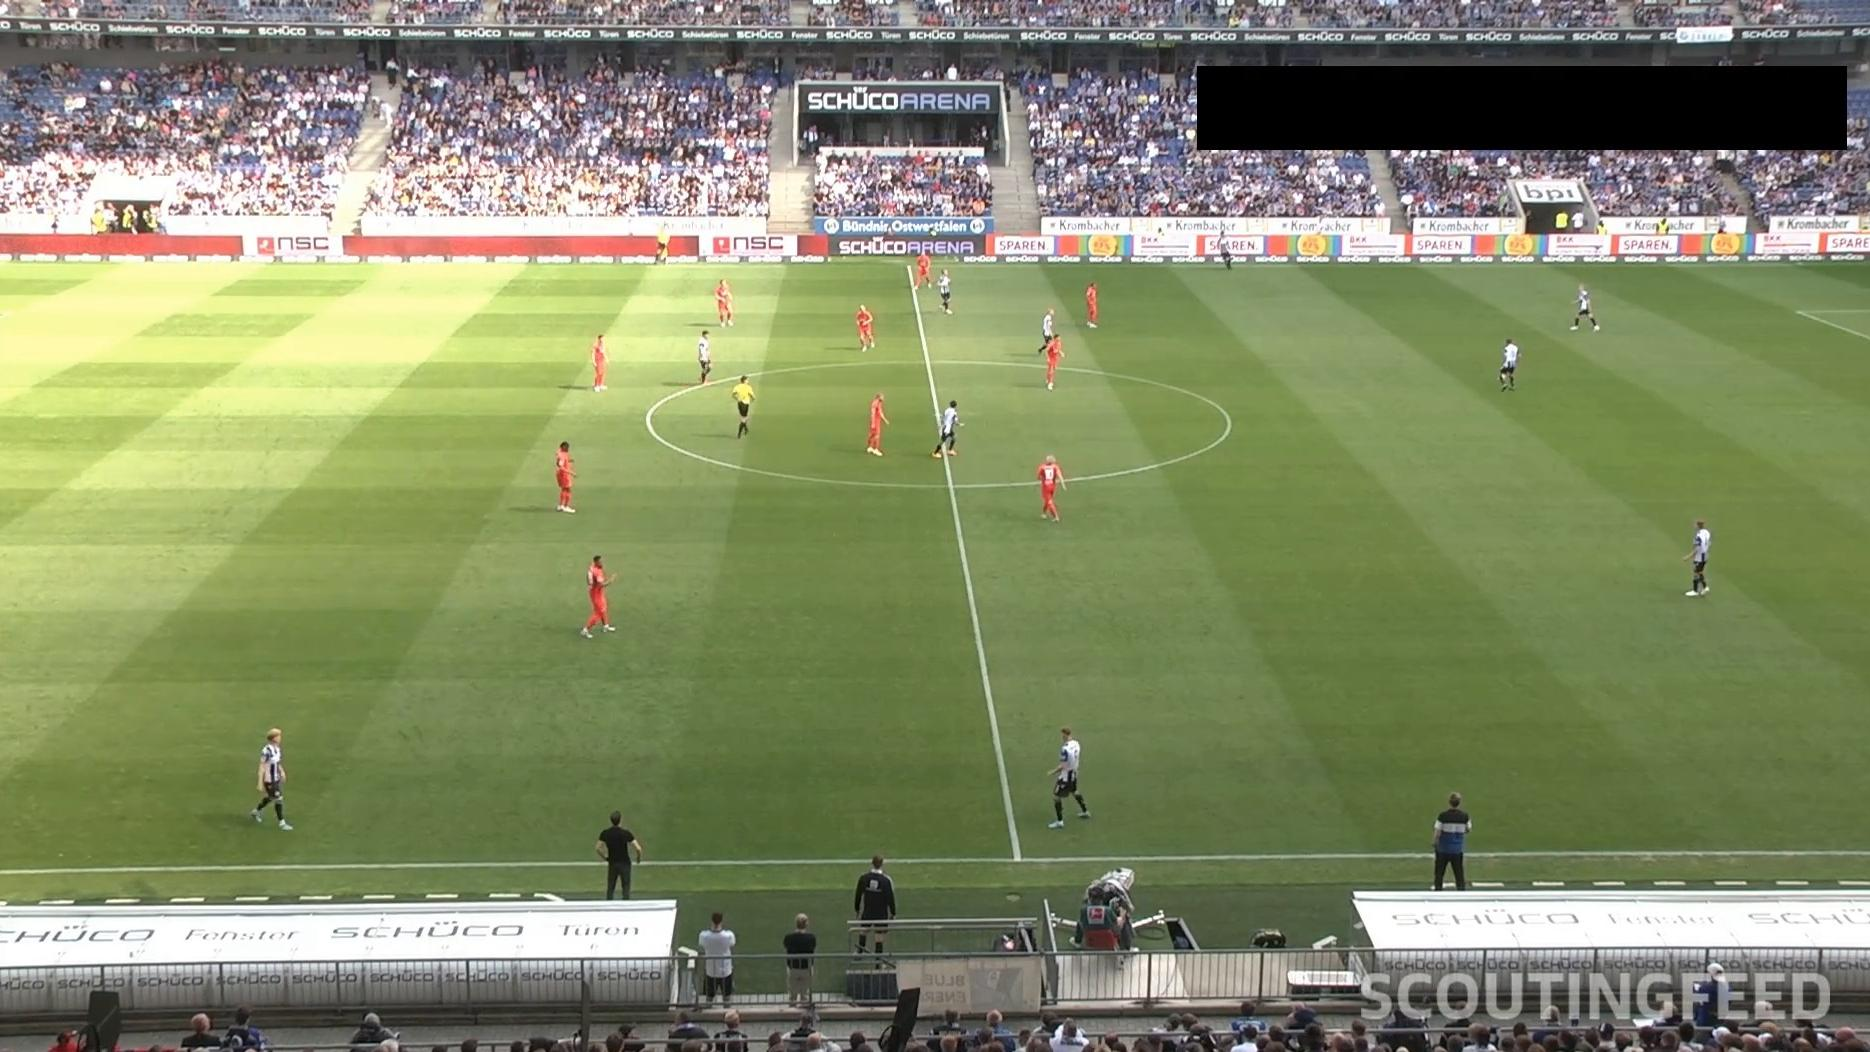ball: (1496, 373, 1505, 381)
